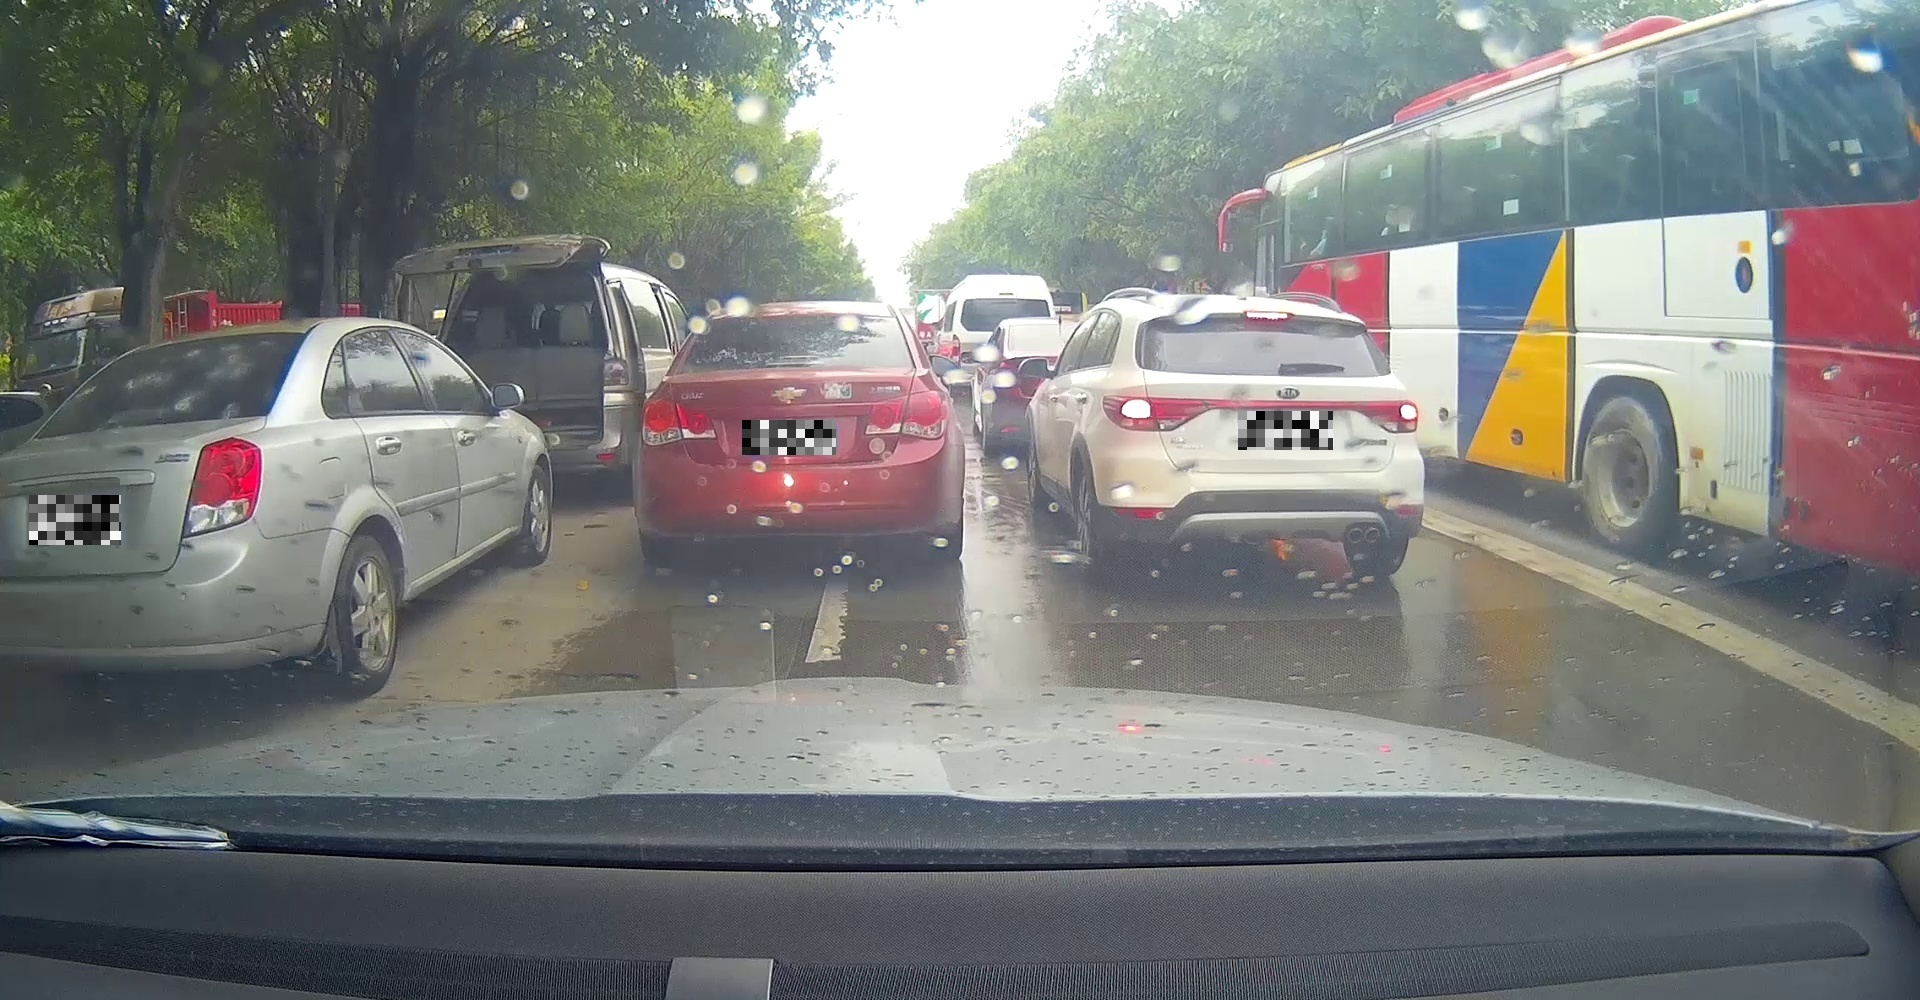L_light: (1098, 393, 1208, 431), (641, 398, 717, 448)
R_light: (863, 390, 950, 440), (1354, 400, 1418, 435)
T_light: (766, 355, 825, 365), (1244, 311, 1291, 322)
day-brake: (1093, 292, 1426, 577)
day-no: (631, 298, 969, 563)
plate_1: (29, 495, 121, 544)
plate_2: (742, 420, 836, 456)
plate_3: (1238, 411, 1333, 451)
